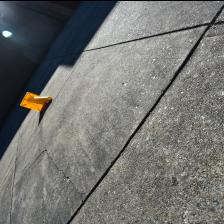cone: (20, 91, 51, 110)
